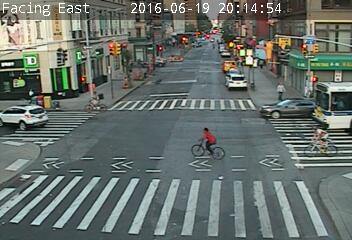neg: (189, 122, 221, 165), (304, 122, 336, 164), (143, 163, 174, 205), (28, 142, 59, 183), (141, 100, 169, 137), (86, 144, 112, 179), (249, 150, 275, 184), (33, 88, 58, 121), (20, 44, 44, 77), (280, 39, 304, 71), (156, 53, 178, 83), (84, 85, 106, 115), (212, 189, 234, 219), (283, 95, 300, 118), (234, 33, 251, 56), (222, 67, 238, 88)
pos: (271, 77, 289, 100)
